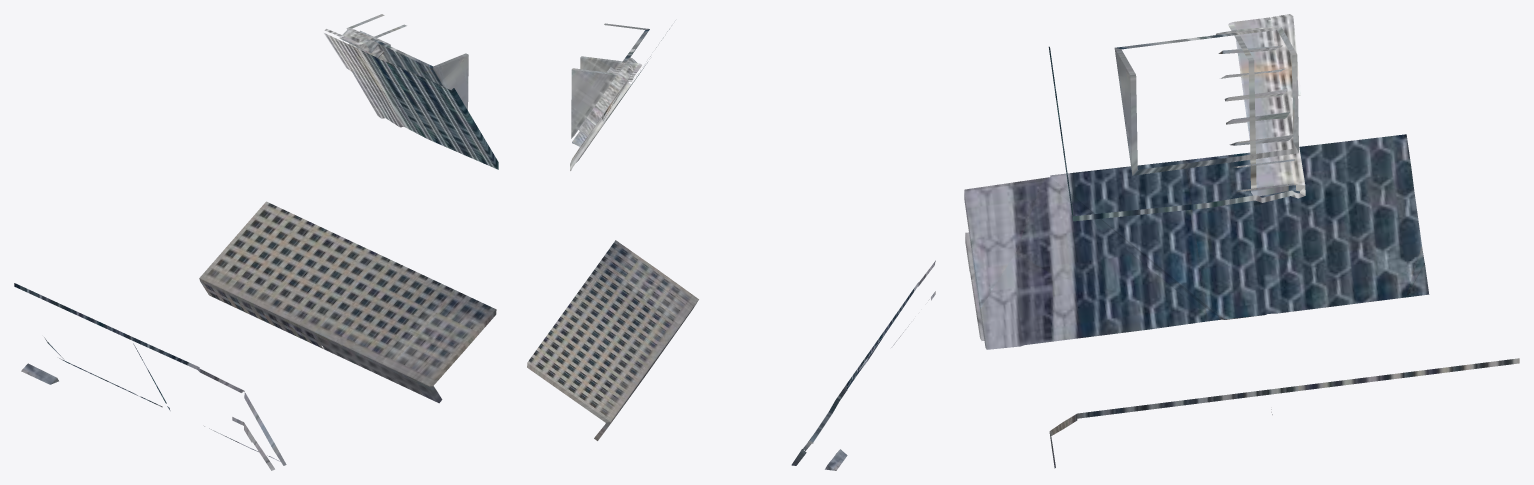
The model's file is tile_051.glb.
3 views of the same model, side by side, from view 1: azimuth 30°, elevation 25°; view 2: azimuth 150°, elevation 25°; view 3: azimuth 270°, elevation 25° (orthographic). The views are drawn at different scales.
Size of the model in its own units: 91.92 by 76.84 by 88.92.
Materials: 1 (1 with a texture image).
